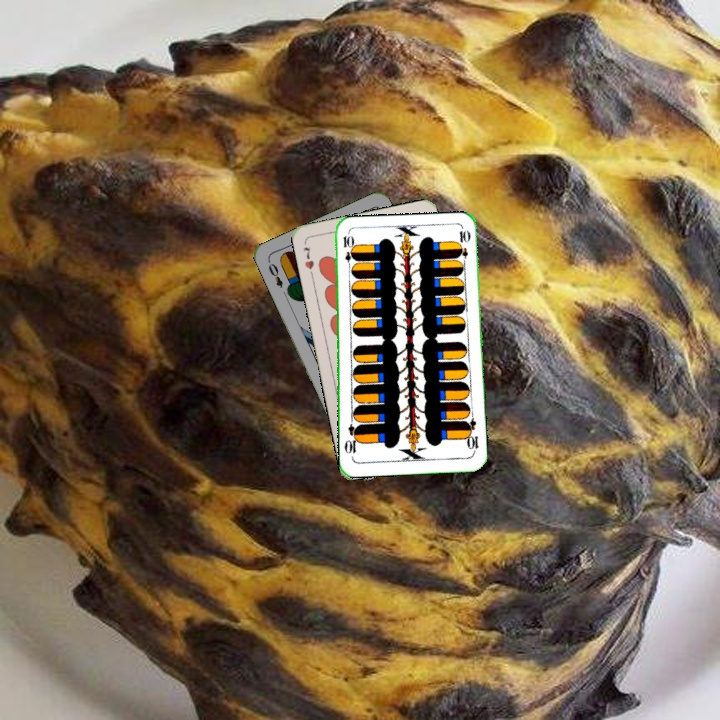E10: (462, 415, 481, 456), (339, 231, 354, 272)
EO: (264, 256, 286, 290)
H7: (299, 243, 317, 279)
